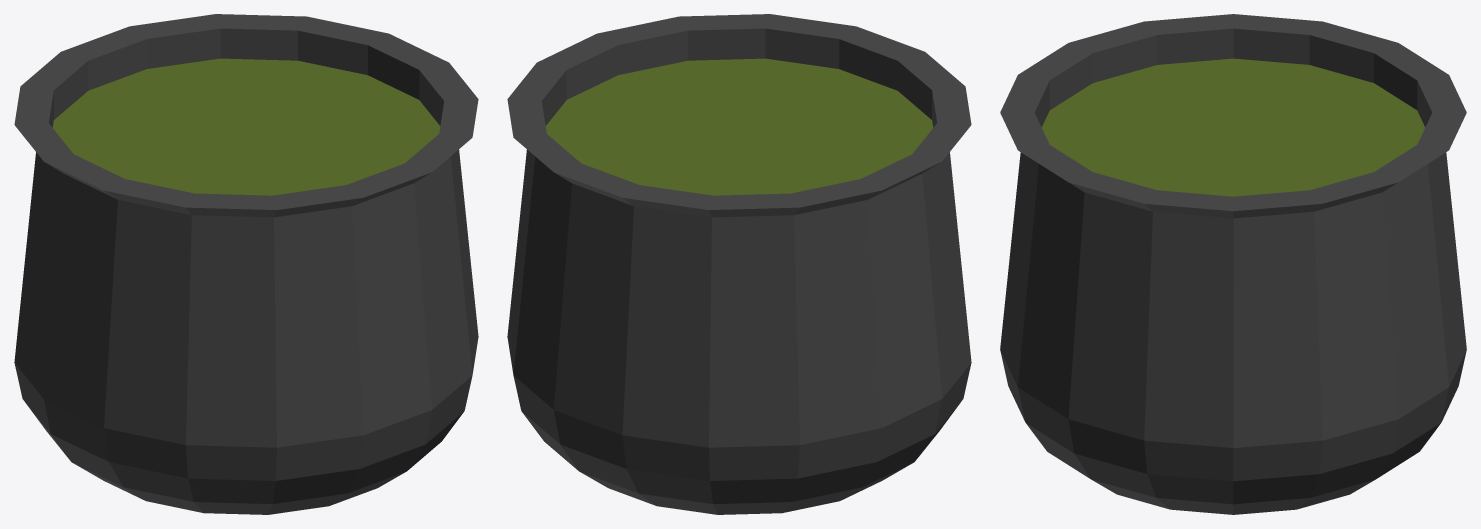
Rendered from cauldron.fbx.
3 views of the same model, side by side, from view 1: azimuth 30°, elevation 25°; view 2: azimuth 150°, elevation 25°; view 3: azimuth 270°, elevation 25° (orthographic).
Visible parts, largest first — view 1: Cylinder; view 2: Cylinder; view 3: Cylinder.
Part boxes in pixels (bbox=[...]): Cylinder: bbox=[14, 14, 478, 514]; Cylinder: bbox=[507, 14, 971, 514]; Cylinder: bbox=[1000, 14, 1466, 514].
Size of the model in its own units: 20000 by 16800 by 20000.
